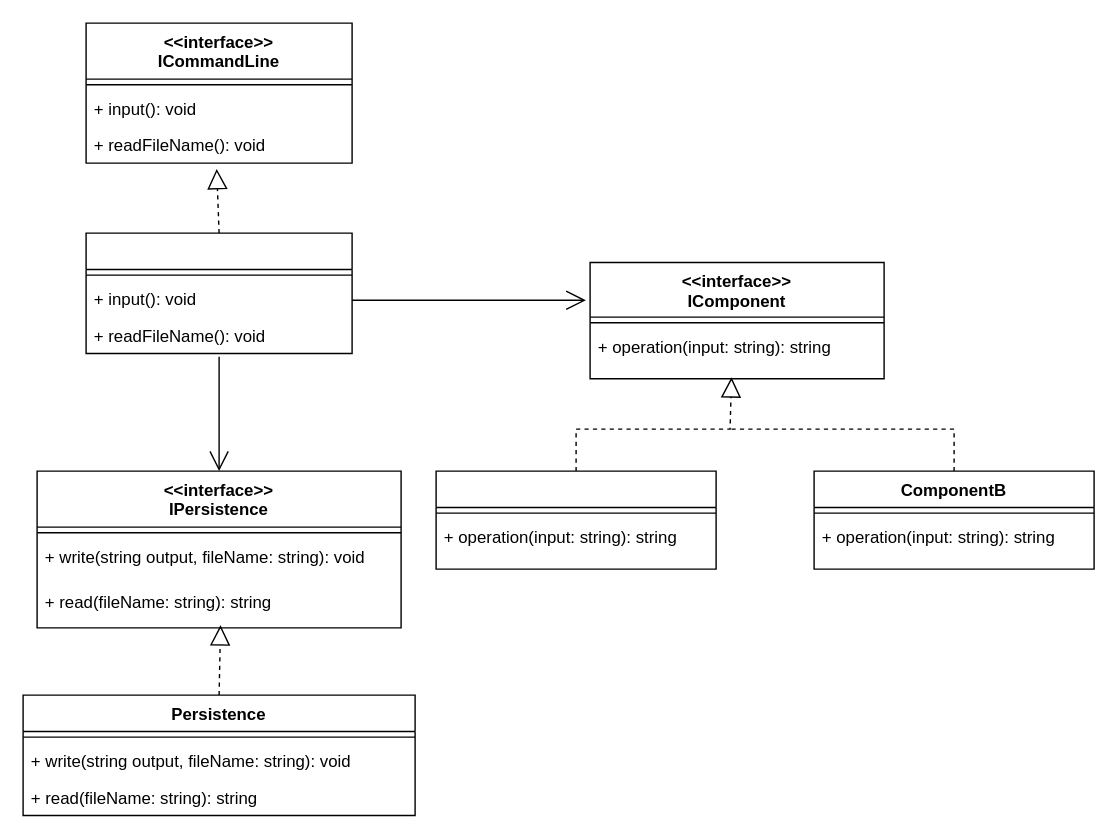
Image size: 1117x839. Some labels were removed from this diagram. Each missing label, with the box of its shape:
CommandLine: (85, 232, 352, 354)
ComponentA: (435, 470, 716, 569)
